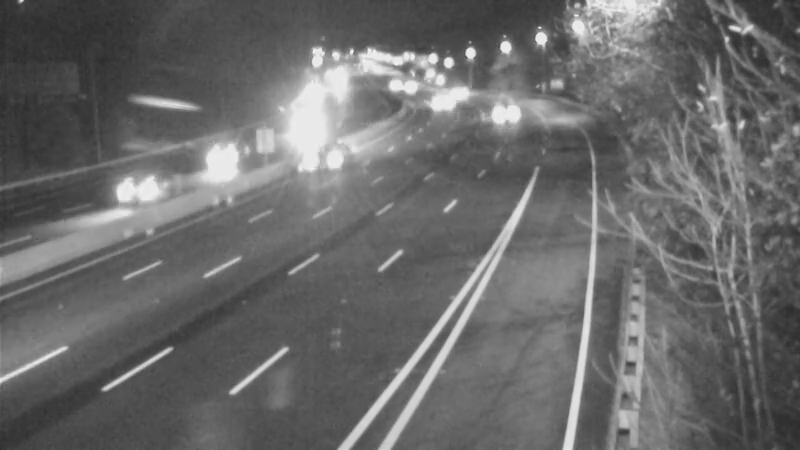vehicle: (286, 116, 366, 196), (99, 150, 179, 230), (183, 116, 263, 196), (371, 60, 421, 110), (387, 63, 437, 113), (433, 65, 483, 115), (419, 73, 469, 123), (479, 83, 529, 133)
